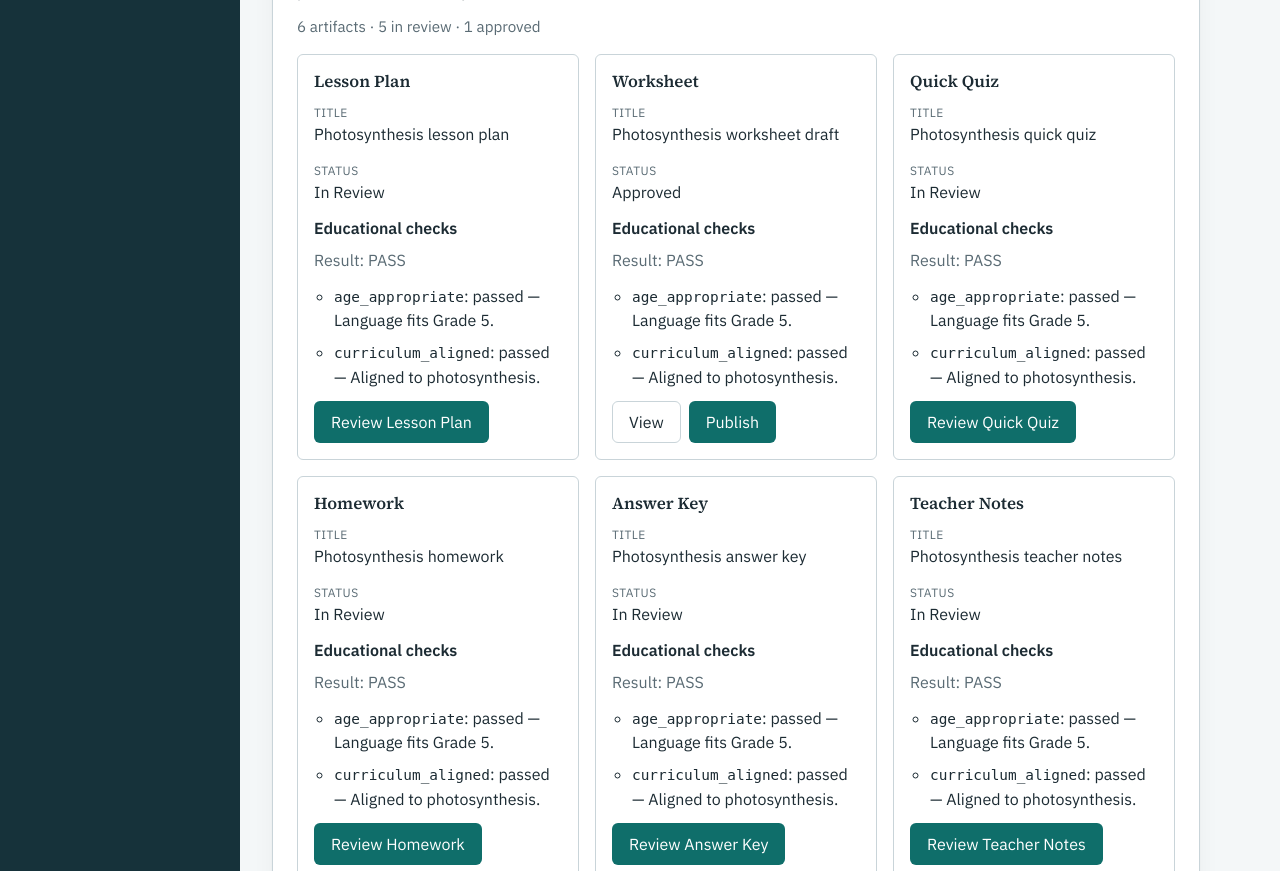
Test: TOS-DEV05R1 Work lifecycle UX › 11. 412 refreshes state and does not blind-retry
(page scrolled)
Click the button "Publish".
click(732, 422)  # box left=689, top=401, right=776, bottom=443
(page scrolled)
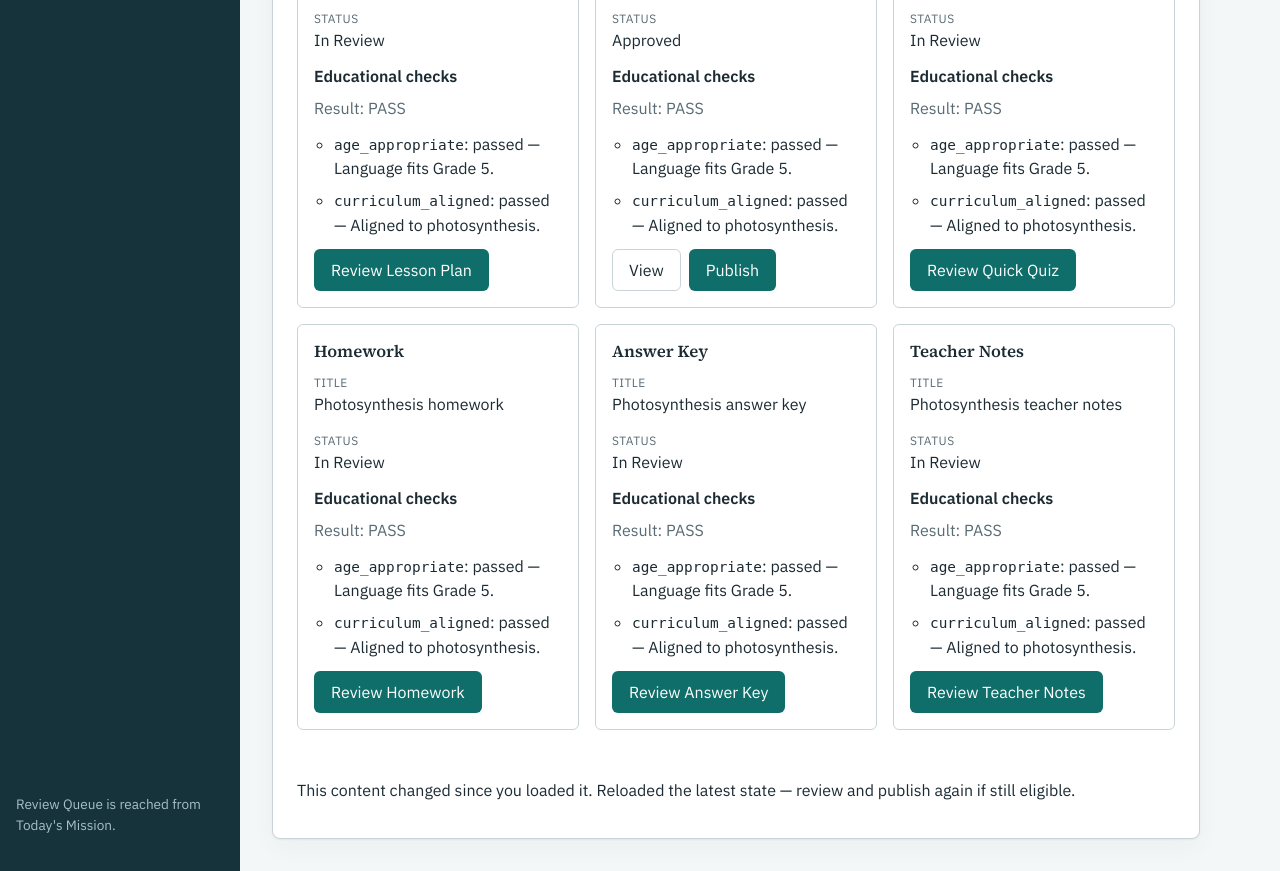
Now the text "changed since you loaded it" is shown, box left=297, top=780, right=1075, bottom=800
